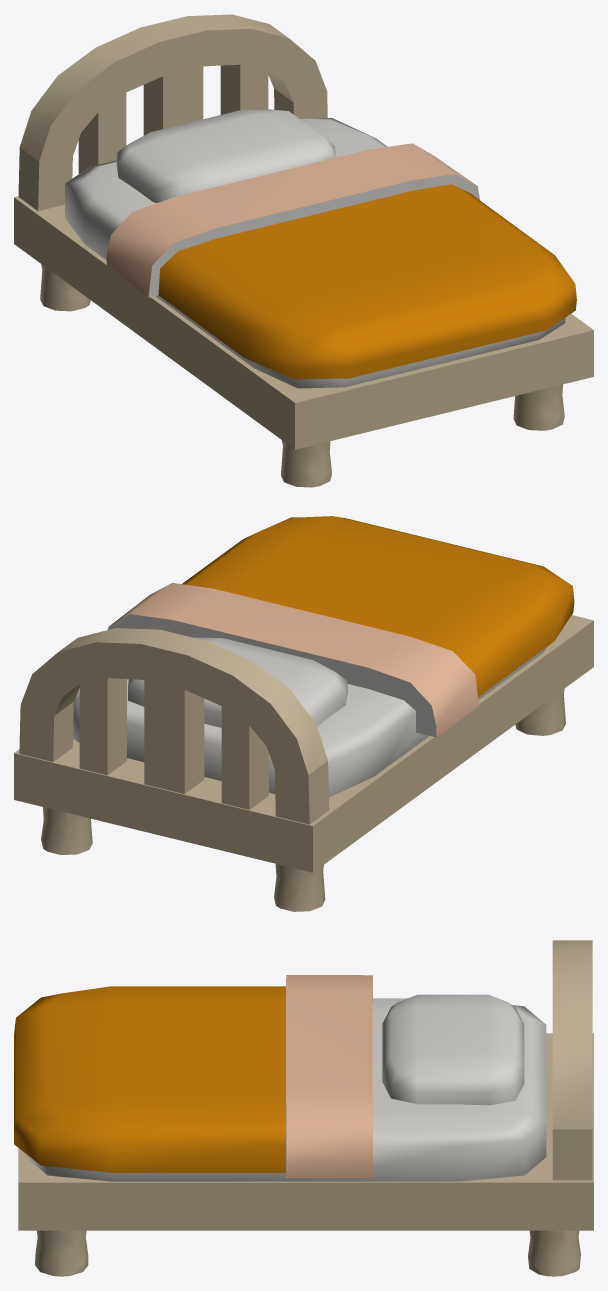
The model's file is cartoon bed 03_LOD1.fbx.
3 renders of one model, top to bottom at view 1: azimuth 30°, elevation 25°; view 2: azimuth 150°, elevation 25°; view 3: azimuth 270°, elevation 25°, orthographic. The views are drawn at different scales.
Visible parts, largest first — view 1: cartoon_bed_003; view 2: cartoon_bed_003; view 3: cartoon_bed_003.
Boxes of the visible parts, <box> form: cartoon_bed_003: <box>14,14,593,487</box>; cartoon_bed_003: <box>14,516,593,911</box>; cartoon_bed_003: <box>14,940,593,1276</box>.
Size of the model in its own units: 4.86 by 3.3 by 7.17.
